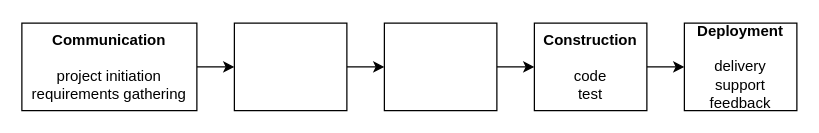
The diagram is 819 pixels wide and 133 high, and some of its shapes have lost their labels. The centre of each missing label's shape, as x and y in pixels:
Modeling analysis design: pixel 440 66
Planning estimating scheduling tracking: pixel 290 66
